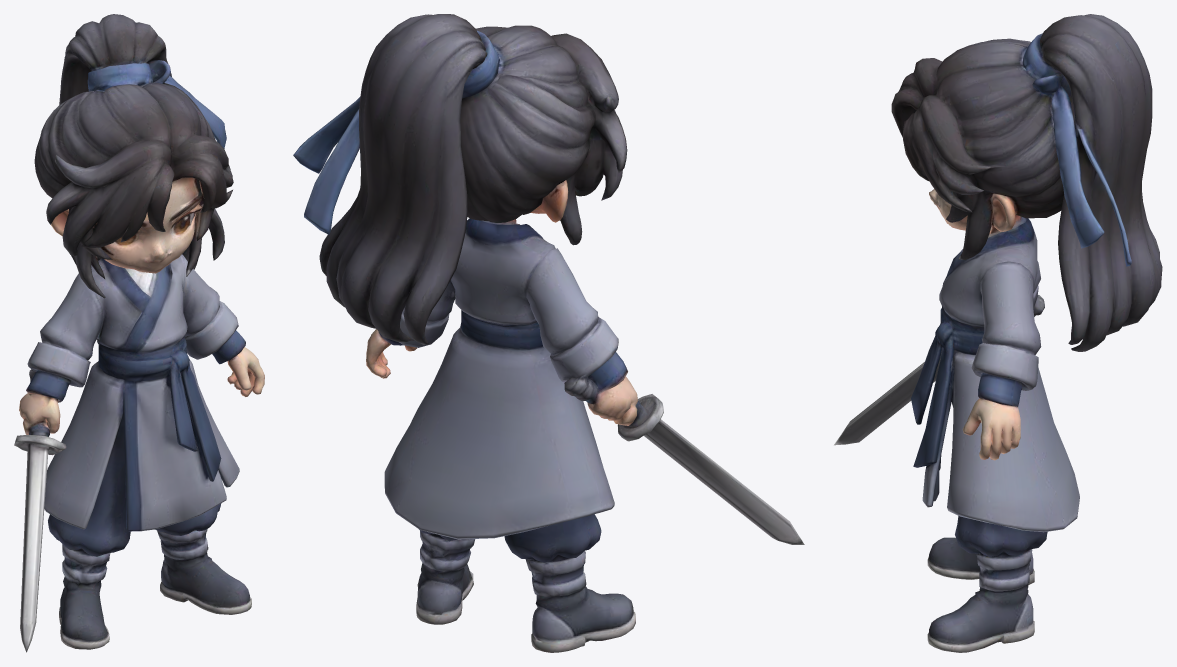
File: hero_t1.glb
3 views of the same model, side by side, from view 1: azimuth 30°, elevation 25°; view 2: azimuth 150°, elevation 25°; view 3: azimuth 270°, elevation 25° (orthographic). The views are drawn at different scales.
Parts seen in each view (by area): view 1: tripo_node_0c9b66f0-8f34-4dd7-ab0b-9d4822f40e04; view 2: tripo_node_0c9b66f0-8f34-4dd7-ab0b-9d4822f40e04; view 3: tripo_node_0c9b66f0-8f34-4dd7-ab0b-9d4822f40e04.
Boxes of the visible parts, x1,y1,x2,y2 form: tripo_node_0c9b66f0-8f34-4dd7-ab0b-9d4822f40e04: (14, 14, 264, 652); tripo_node_0c9b66f0-8f34-4dd7-ab0b-9d4822f40e04: (293, 14, 804, 652); tripo_node_0c9b66f0-8f34-4dd7-ab0b-9d4822f40e04: (834, 14, 1162, 652).
Bounding box in the file's own units: 0.5947 × 0.9771 × 0.4876.
1 material, 1 textured.
